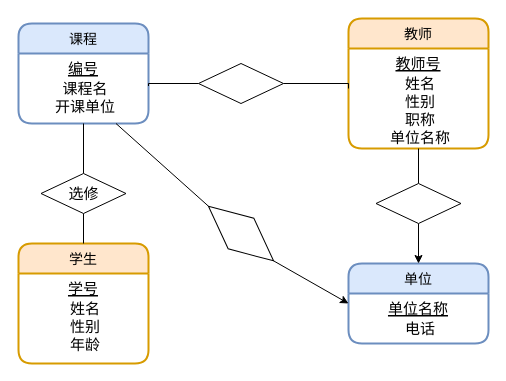
The diagram is 506 pixels wide and 381 high, and some of its shapes have lost their labels. Here are the shapes that lost their labels. From the top down, the centre of each, then its label:
point 241,83: 讲授
point 418,203: 属于
point 240,233: 开设
